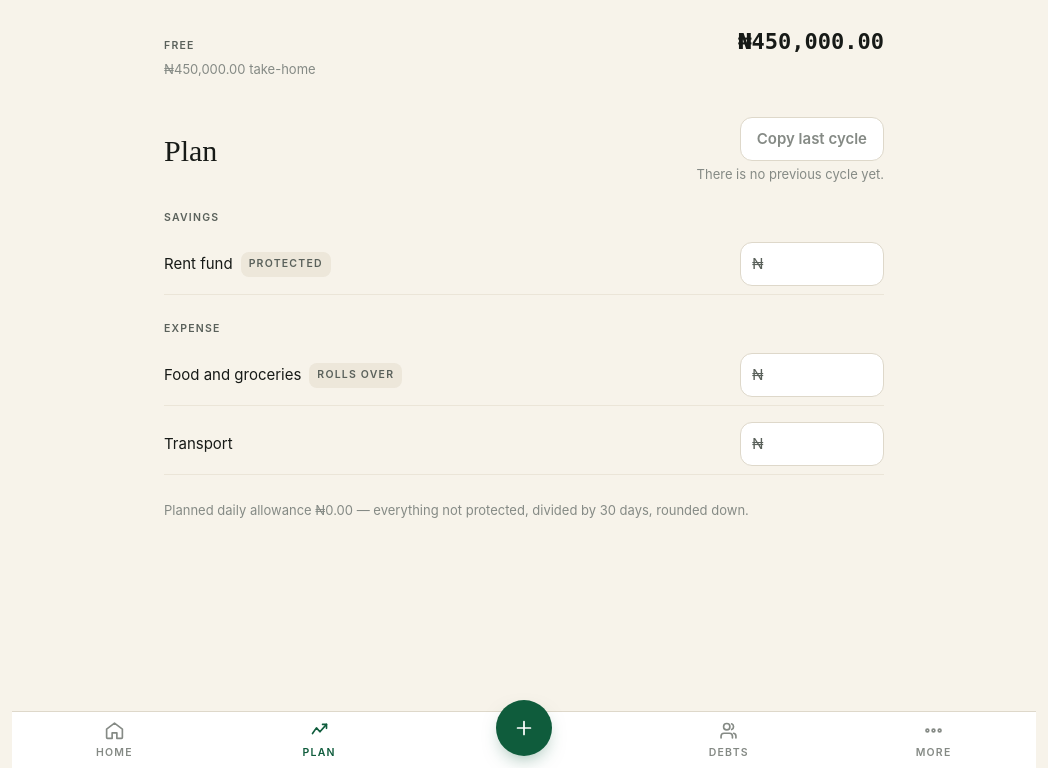
a rejected row › keeps the typed figure and does NOT move unallocated
Check: the heading "Plan" is shown, box [164,132,217,168]
Check: the text "₦450,000.00" is shown, box [738,28,884,56]
Click the field named "Rent fund amount" in the row of "Rent fund" at point(812, 264), box [740,242,884,286]
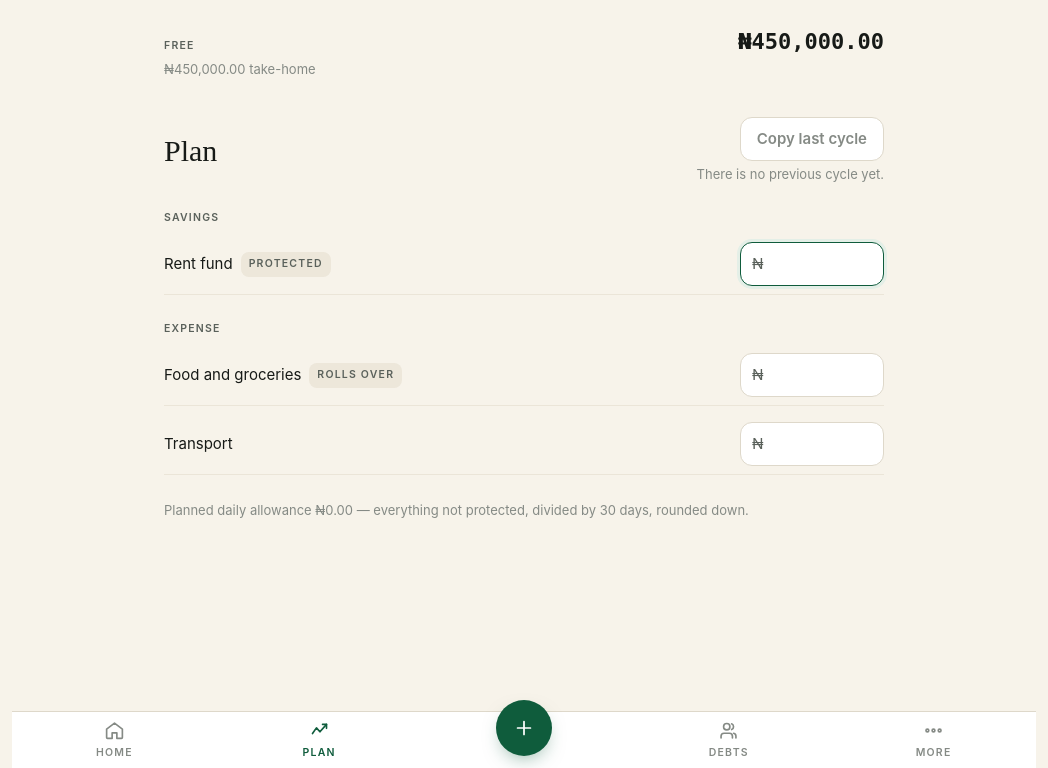
Type keys "75000"
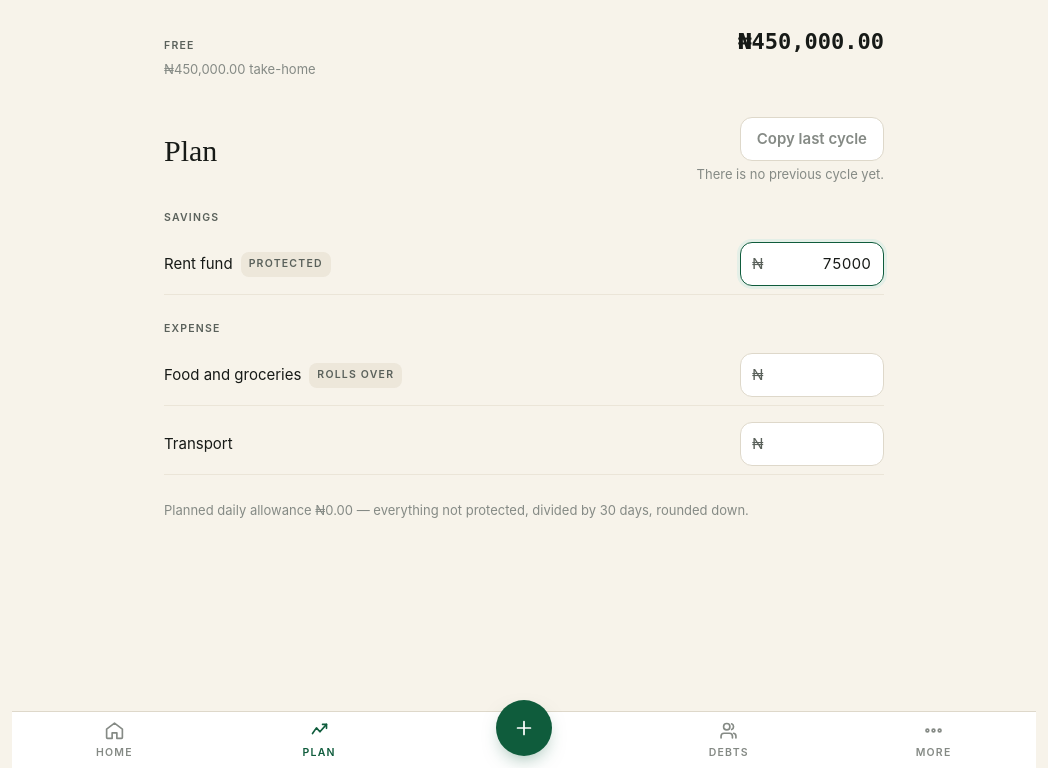
Press Tab
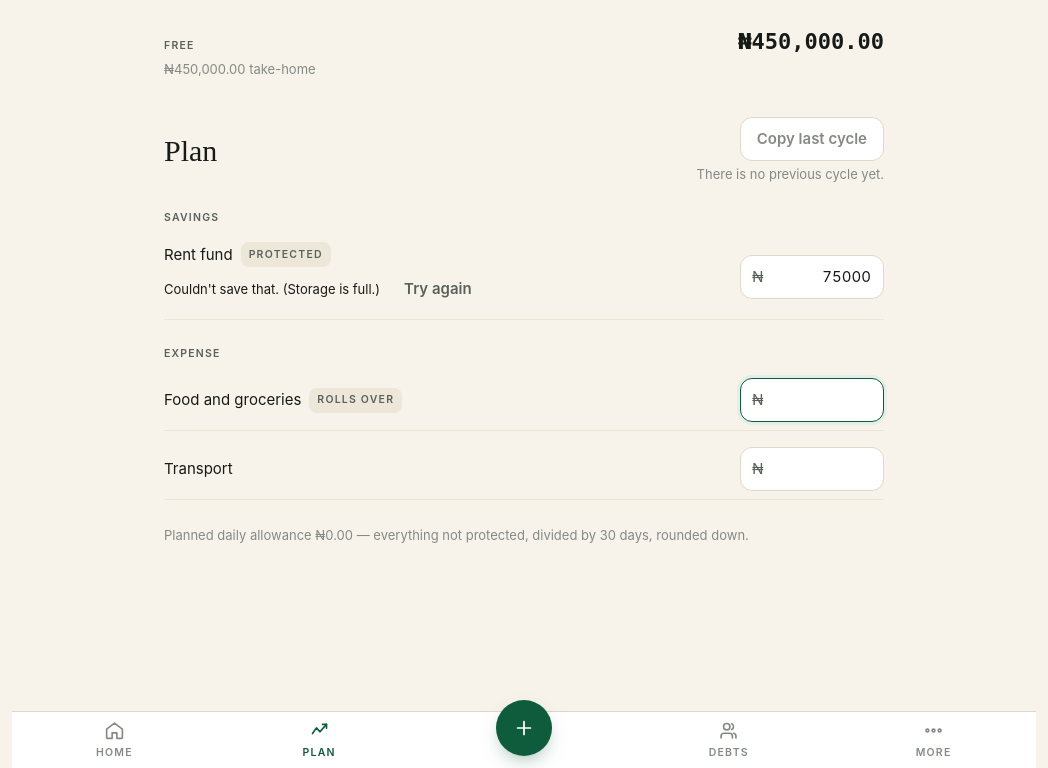
Check: the text "₦450,000.00" is shown, box [738,28,884,56]
Check: the field named "Rent fund amount" in the row of "Couldn't save that. (Storage is full.)" holds "75000", box [740,254,884,298]
Check: the text "Couldn't save that. (Storage is full.) Try again" is shown, box [164,267,488,311]
